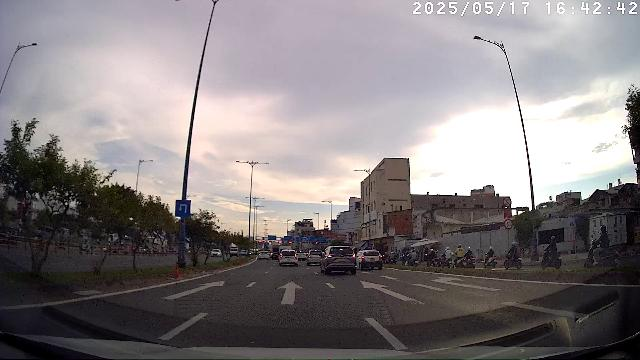127-toc-do-toi-da-50: (504, 219, 513, 230)
